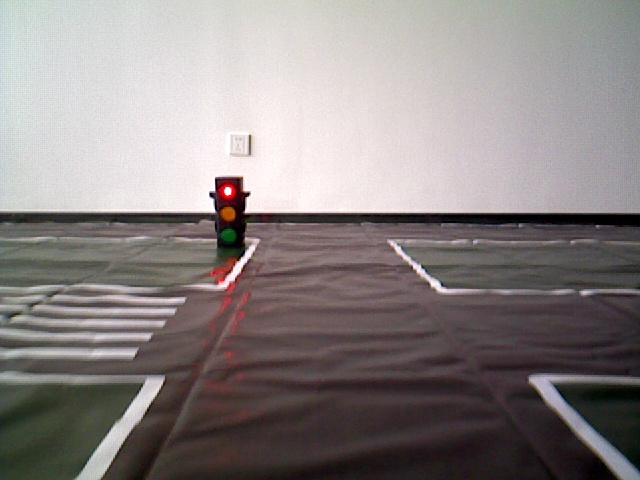red: (216, 176, 240, 253)
